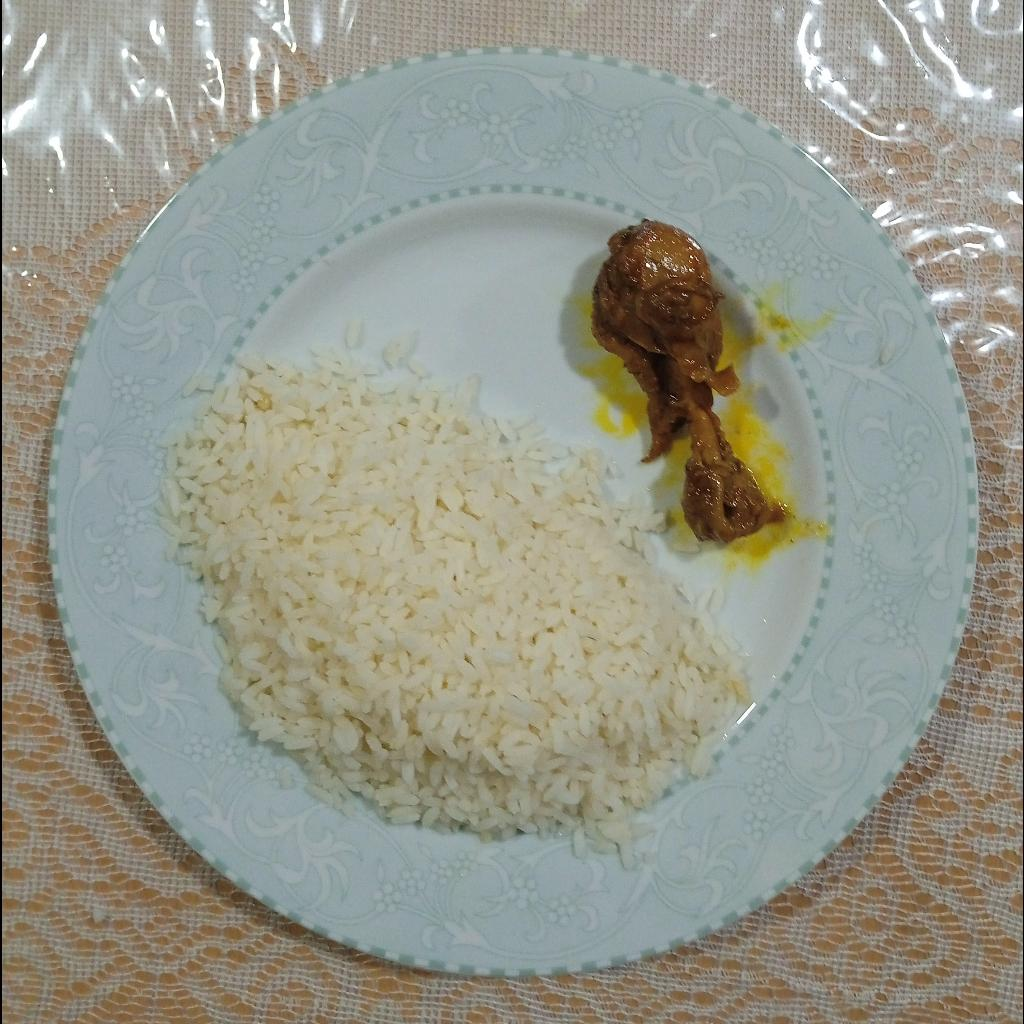chicken: (591, 221, 766, 545)
rice: (163, 334, 768, 866)
